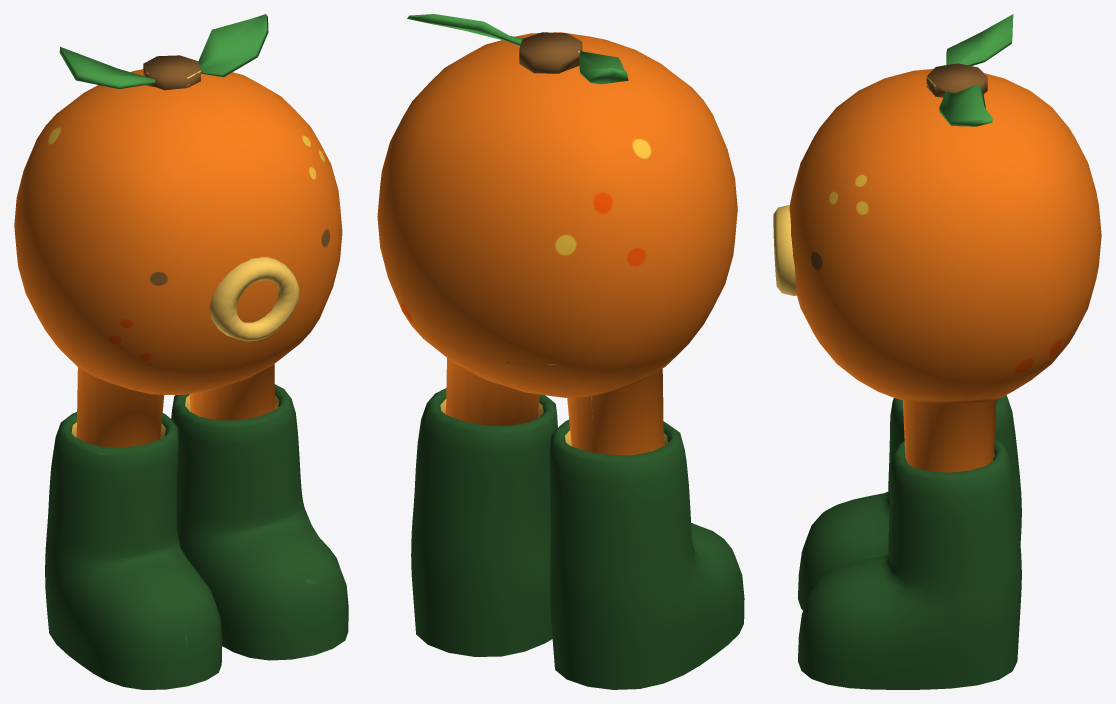
Rendered from orange_default.glb.
3 views of the same model, side by side, from view 1: azimuth 30°, elevation 25°; view 2: azimuth 150°, elevation 25°; view 3: azimuth 270°, elevation 25° (orthographic). The views are drawn at different scales.
Visible parts, largest first — view 1: Cylinder; view 2: Cylinder; view 3: Cylinder.
Boxes of the visible parts, x1,y1,x2,y2 form: Cylinder: (14, 14, 348, 689); Cylinder: (377, 14, 744, 689); Cylinder: (773, 14, 1101, 689).
Size of the model in its own units: 0.7444 by 1.43 by 0.737.
2 materials, 2 textured.
